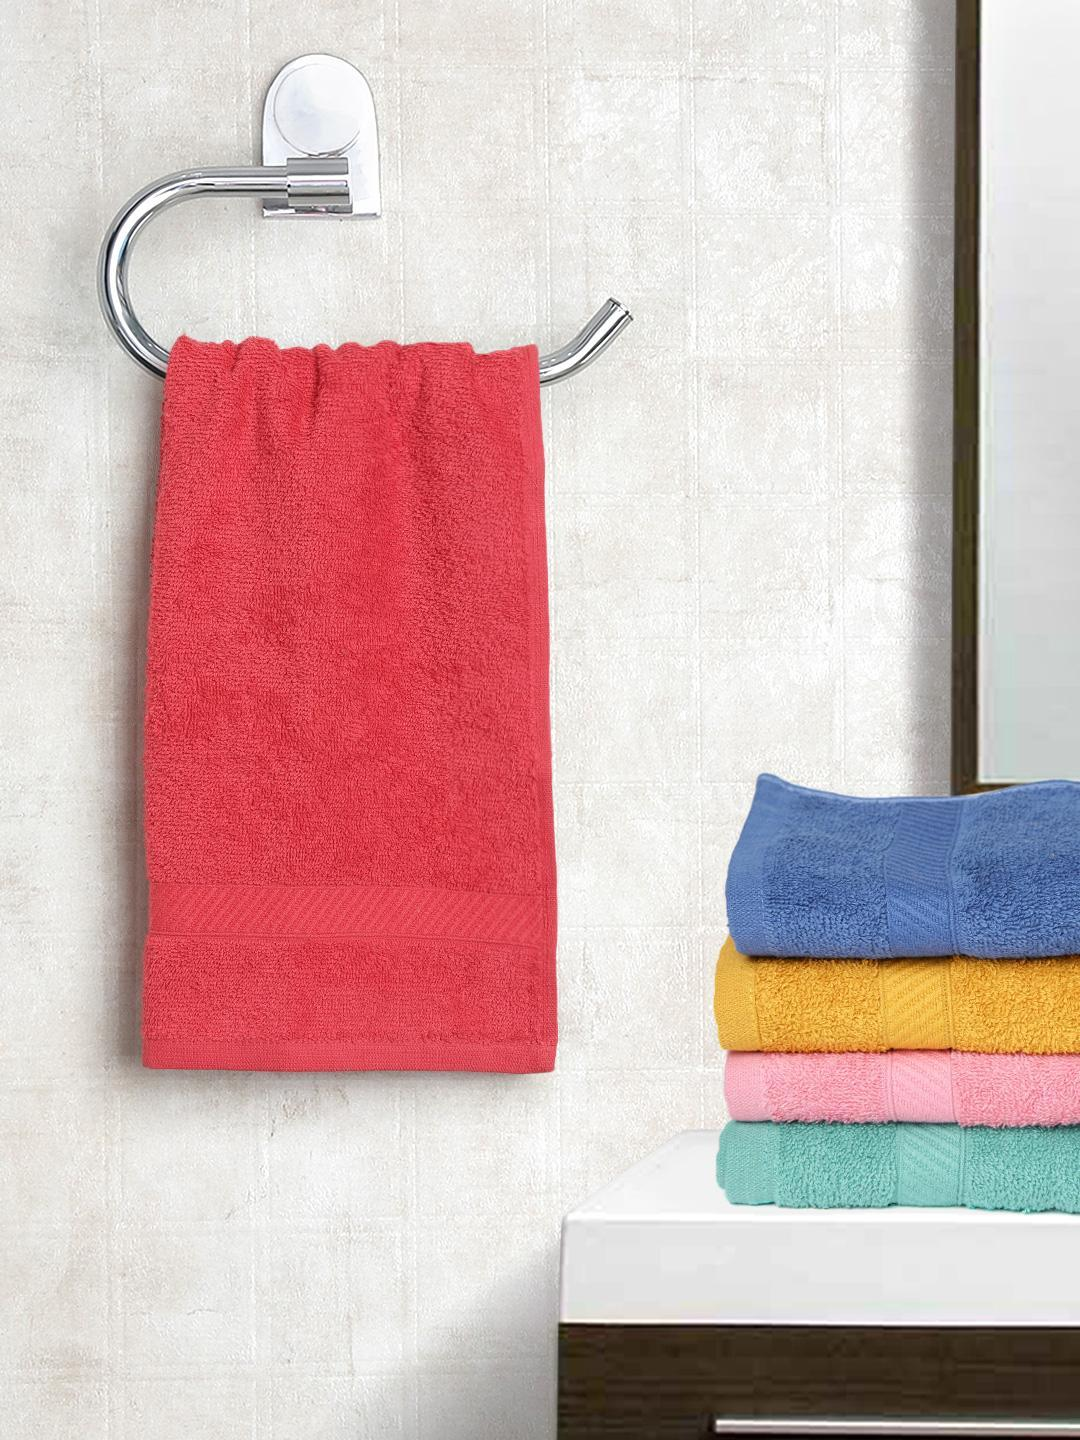towel: (107, 313, 557, 1100)
